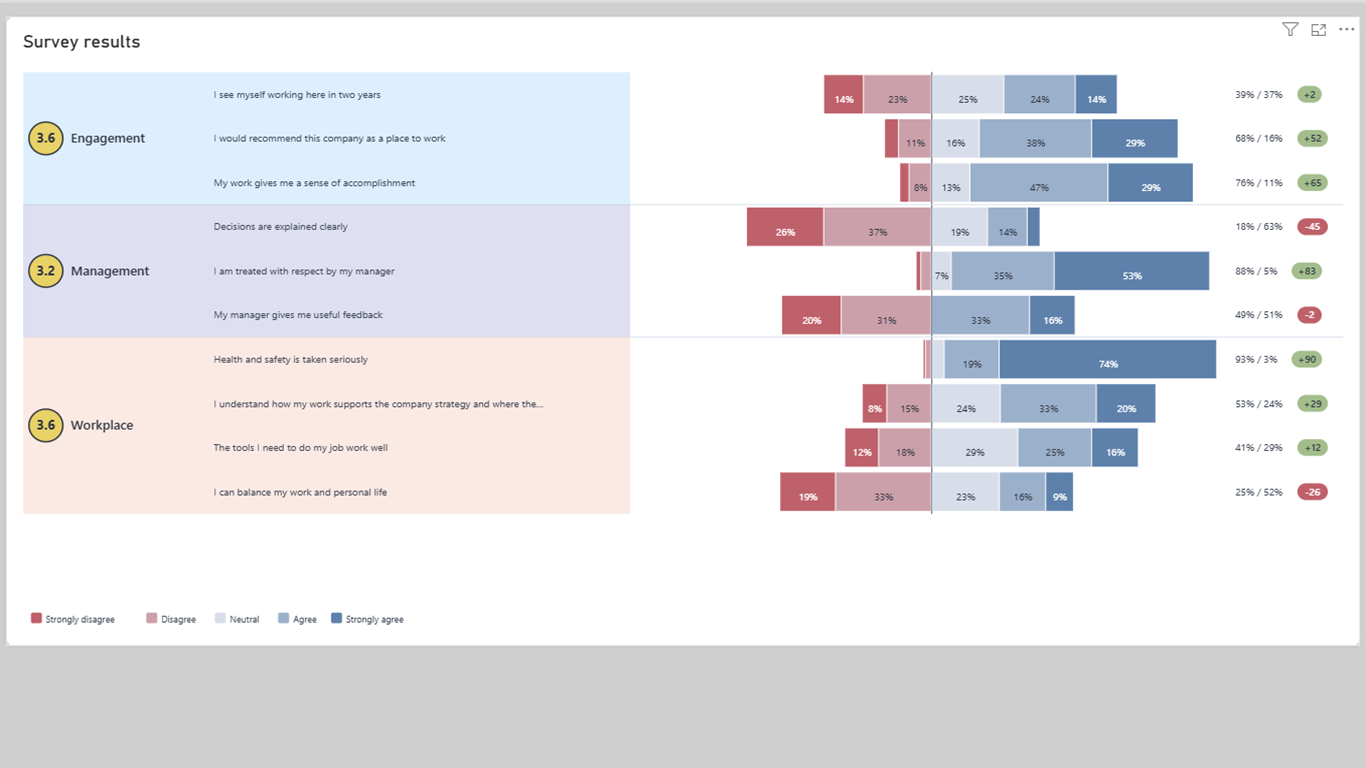

This screenshot's page, from the dashboard's own definition file:
{"tool":"powerbi","page":{"name":"TEST version","canvas":[1920,1080],"ordinal":0},"visuals":[{"type":"likertSurveyProTCViz976FC0D15EE24876A338A1A985F3B2BC","fields":{"group":["encuesta_clima_estados.Block"],"question":["encuesta_clima_estados.Question"],"response":["encuesta_clima_estados.Response"],"value":["Sum(encuesta_clima_estados.Responses)"],"order":["Sum(encuesta_clima_estados.ResponseOrder)"]},"box":[263.3,141,1645.3,601.2],"z":0},{"type":"shape","box":[0,0,1920.6,127.7],"z":1000},{"type":"image","box":[9.3,5.3,231.4,115.7],"z":2000},{"type":"chipSlicerPro","fields":{"category":["estados.State"]},"box":[9.3,400.3,242.1,666.4],"z":2001},{"type":"chipSlicerPro","fields":{"category":["estados.Region"]},"box":[9.3,141,242.1,248.7],"z":2002},{"type":"columnChart","fields":{"Category":["estados.State"],"Y":["Sum(estados.Interviews)"]},"box":[263.3,754.1,1645.3,312.6],"z":2003}]}

Visuals, with their boxes in screenshot pixels (x1, y1, x2, y2), scaled from the page's 1920x1080 canvas onto the 1366x768 screenshot:
likertSurveyProTCViz976FC0D15EE24876A338A1A985F3B2BC - encuesta_clima_estados.Block x encuesta_clima_estados.Question: 187 100 1358 528
shape: 0 0 1365 91
image: 7 4 171 86
chipSlicerPro - estados.State: 7 285 179 759
chipSlicerPro - estados.Region: 7 100 179 277
columnChart - estados.State x Sum(estados.Interviews): 187 536 1358 759
